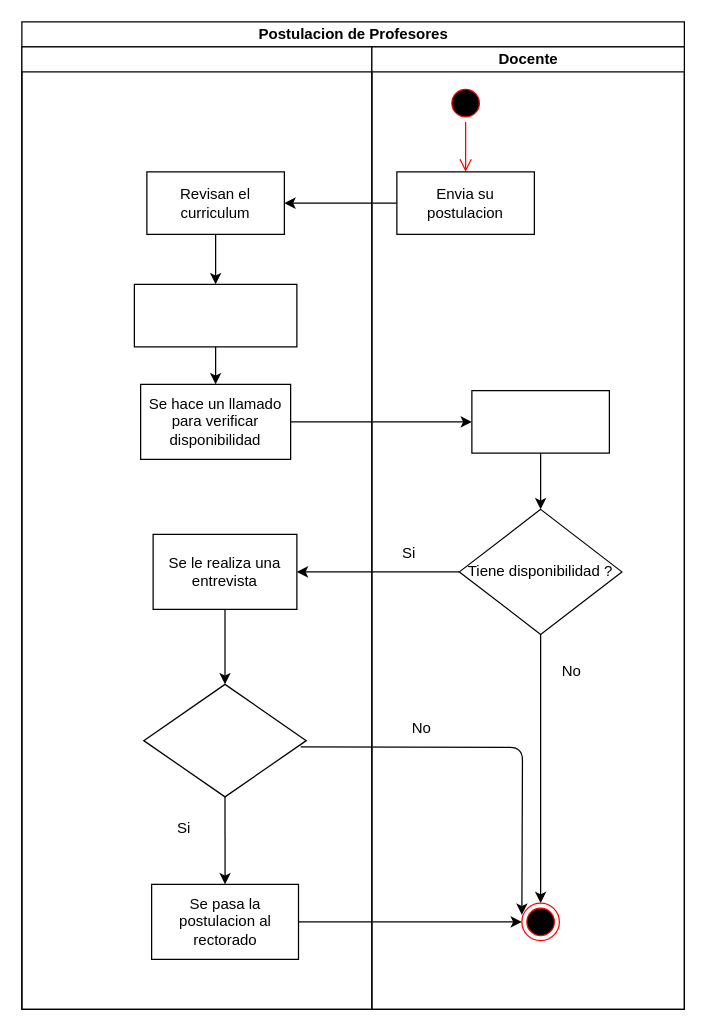
Image size: 706x1031. Some labels were removed from this diagram. The box of each missing label's shape, as (x1, y1, x2, y2) in pixels:
Director General de Gestión Académica: (21, 46, 372, 1009)
Paso la entrevista ?: (142, 683, 306, 797)
Recibe el llamado: (471, 389, 609, 453)
Se analiza el curriculum y necesidad de los PNFs: (133, 283, 297, 347)
